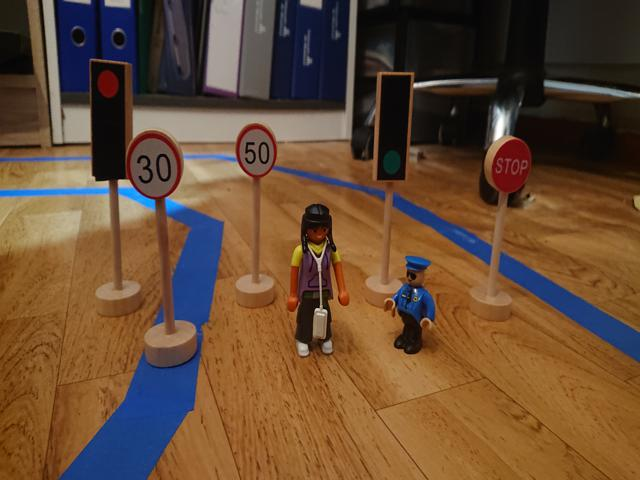30 speed sign: (127, 133, 183, 200)
50 speed sign: (235, 125, 278, 178)
green light: (380, 76, 406, 179)
person: (283, 203, 350, 357), (385, 253, 435, 357)
red light: (92, 63, 124, 162)
stop sign: (489, 139, 532, 194)
